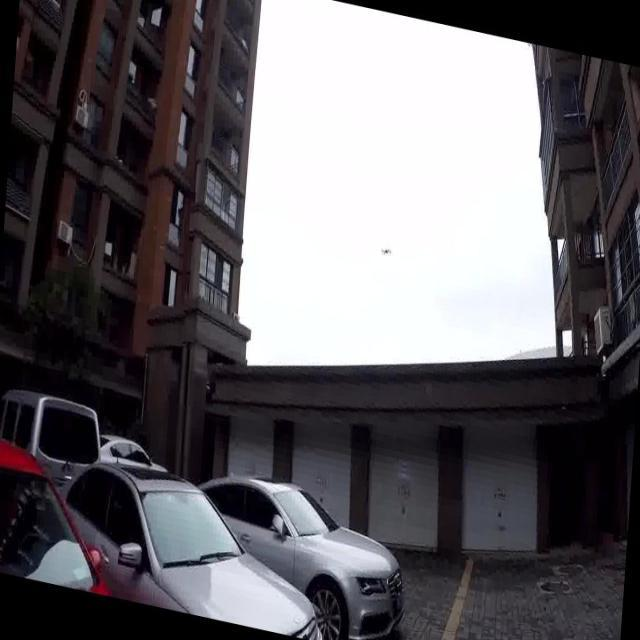drone: (379, 242, 393, 258)
